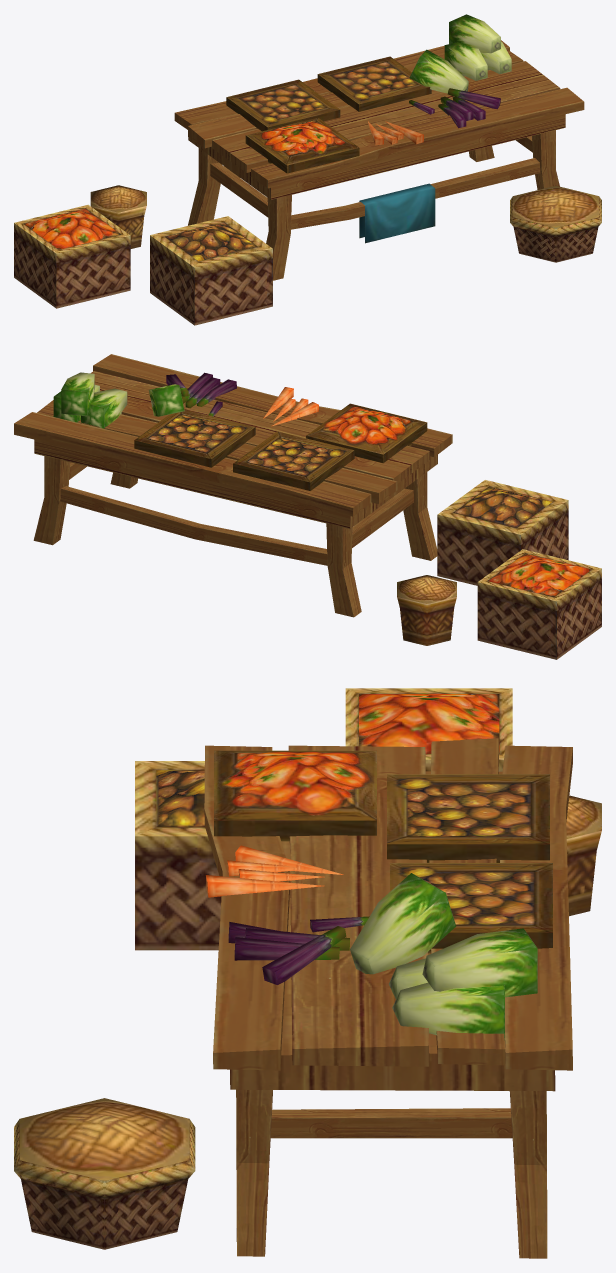
File: szc_object_tanwei03a.FBX
3 renders of one model, top to bottom at view 1: azimuth 30°, elevation 25°; view 2: azimuth 150°, elevation 25°; view 3: azimuth 270°, elevation 25°, orthographic. The views are drawn at different scales.
Visible parts, largest first — view 1: szc_object_tanwei03a; view 2: szc_object_tanwei03a; view 3: szc_object_tanwei03a.
Boxes of the visible parts, <box> form: szc_object_tanwei03a: <box>14,14,601,325</box>; szc_object_tanwei03a: <box>14,354,601,659</box>; szc_object_tanwei03a: <box>14,688,601,1258</box>.
Bounding box in the file's own units: 414 × 117 × 216.
